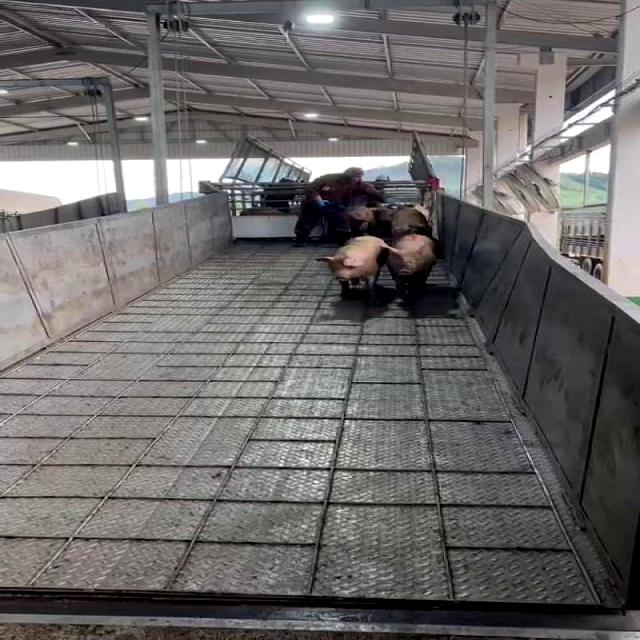pig: (316, 236, 390, 302), (387, 234, 435, 301)
